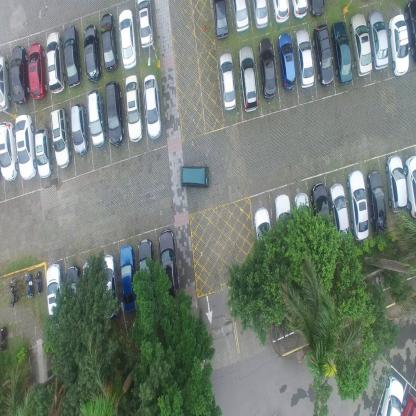car: (13, 113, 36, 181), (348, 168, 369, 241), (158, 229, 180, 297), (331, 19, 353, 85), (350, 12, 372, 78), (49, 107, 72, 169), (389, 11, 410, 77), (313, 22, 334, 87), (119, 244, 139, 312), (238, 44, 258, 112), (99, 252, 119, 318), (62, 23, 82, 88), (46, 30, 66, 95), (368, 8, 389, 69), (386, 154, 408, 212), (105, 78, 124, 145), (368, 169, 388, 232), (258, 36, 278, 99), (27, 42, 48, 102), (143, 72, 162, 138), (46, 262, 64, 331), (125, 74, 143, 142), (118, 8, 138, 69), (252, 205, 274, 260), (10, 44, 30, 104), (277, 31, 296, 91), (137, 238, 154, 304), (87, 90, 107, 146), (273, 192, 293, 247), (83, 24, 102, 81), (296, 28, 314, 88), (100, 11, 118, 71), (0, 121, 18, 181), (218, 52, 236, 110), (70, 102, 89, 156), (378, 374, 403, 415), (329, 181, 348, 234), (294, 189, 310, 248), (34, 127, 52, 179), (136, 0, 155, 49), (66, 264, 82, 320), (312, 179, 329, 227), (180, 162, 210, 189), (404, 152, 416, 219), (211, 0, 230, 41), (404, 0, 416, 61), (0, 54, 11, 112), (232, 0, 250, 32), (252, 0, 269, 29), (272, 0, 290, 22), (291, 0, 309, 20), (402, 394, 416, 415), (310, 0, 326, 16)
